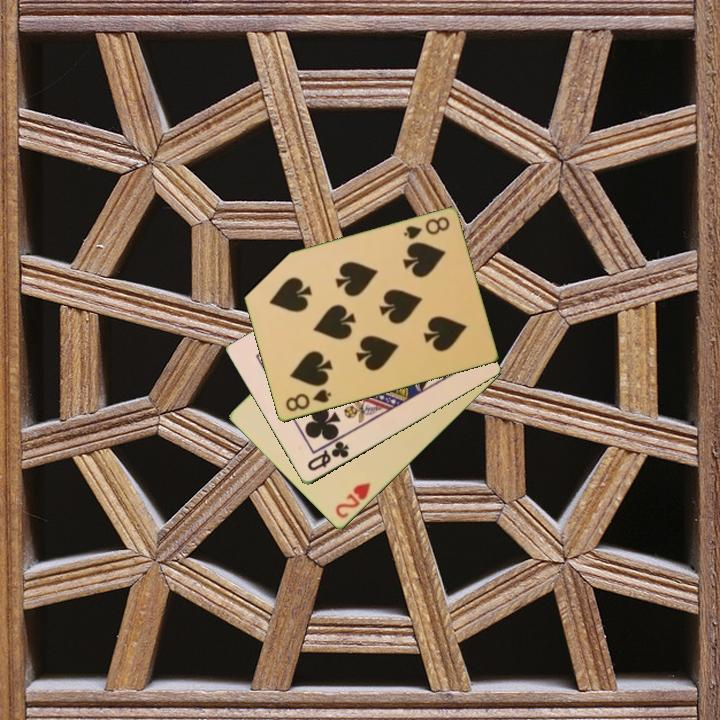2h: (332, 479, 373, 522)
8s: (400, 213, 452, 243), (282, 386, 334, 415)
Qc: (304, 438, 352, 474)
